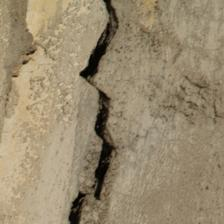Crack: (33, 1, 91, 220)
